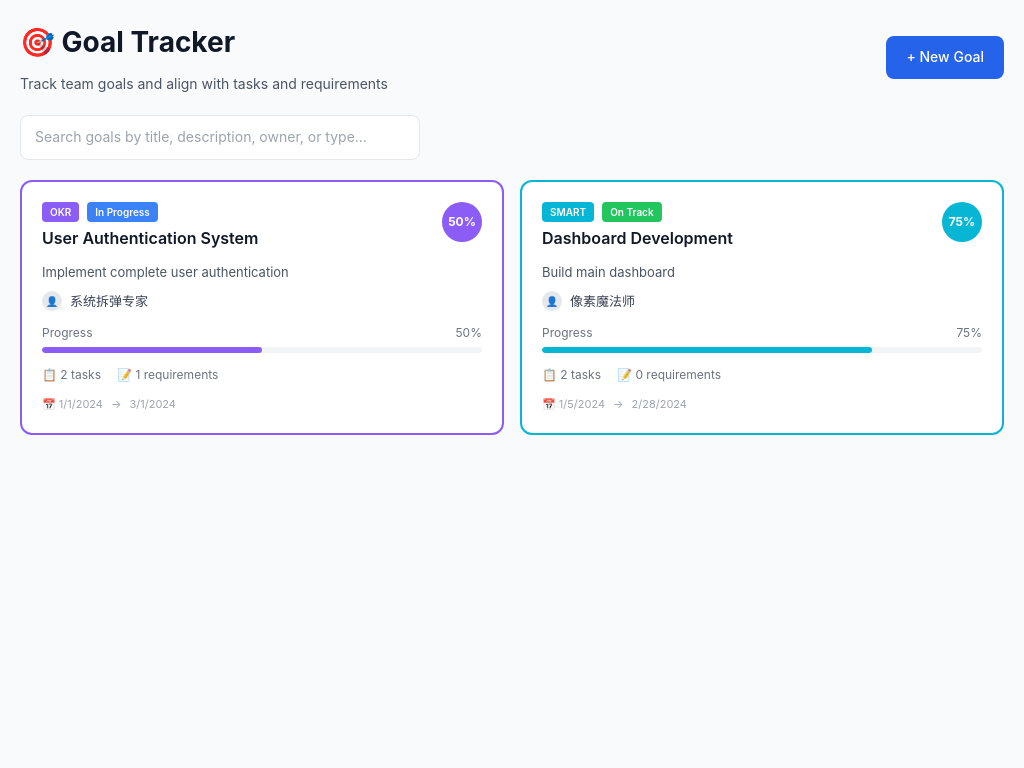
Test: GoalTracker › should open edit modal when goal card is clicked
Click the heading "User Authentication System": (150, 238) [42,228,258,248]
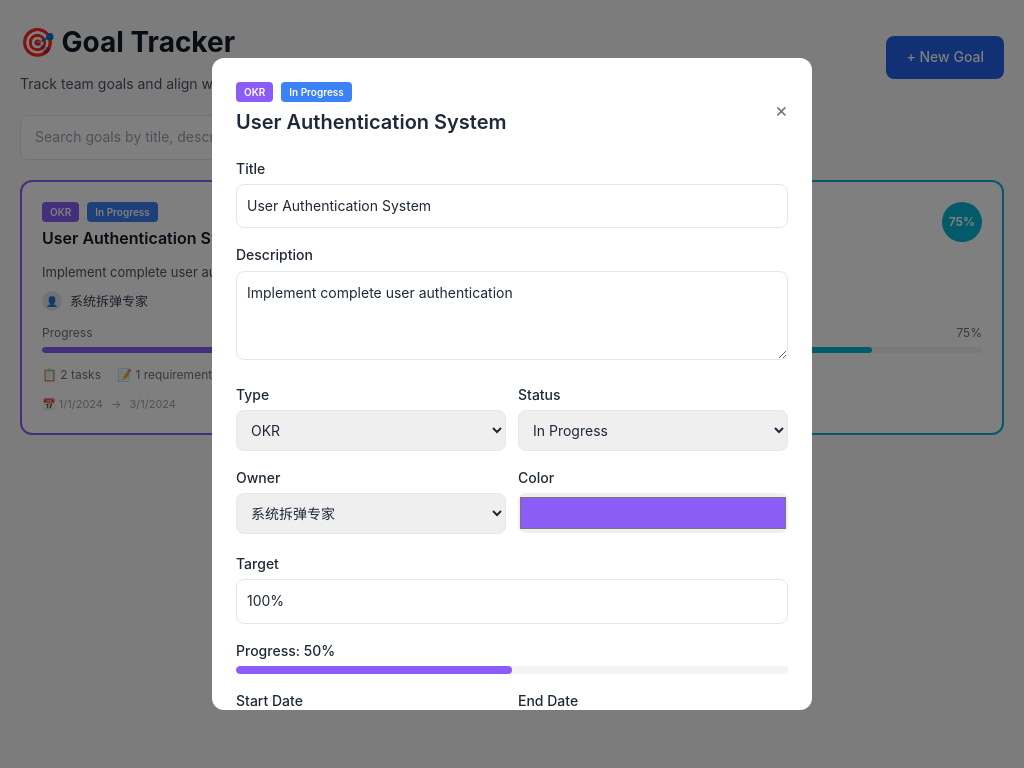
Now the dialog is shown
Now the field showing "User Authentication System" is shown, box [236,184,788,228]
